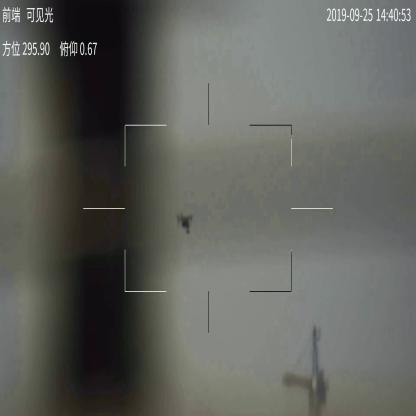uav: (176, 211, 195, 235)
